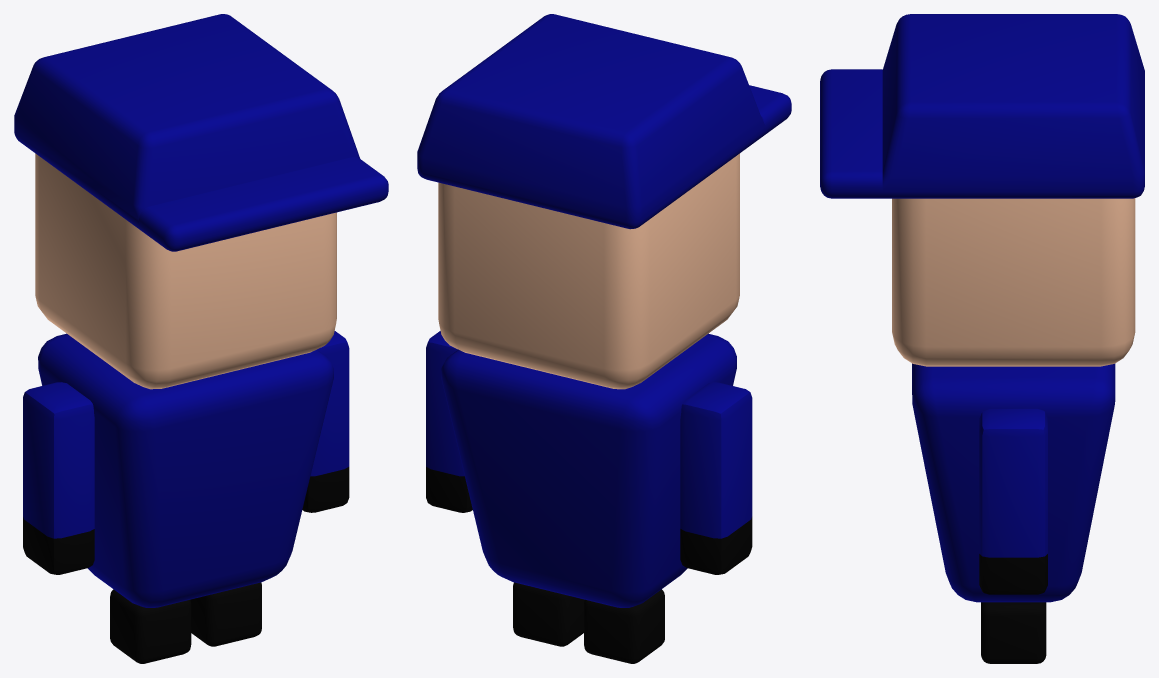
Rendered from Wachmann.fbx.
3 views of the same model, side by side, from view 1: azimuth 30°, elevation 25°; view 2: azimuth 150°, elevation 25°; view 3: azimuth 270°, elevation 25° (orthographic).
Visible parts, largest first — view 1: Cap.001, Body.002, Head.002, Arm right, Arm left, Leg right, Leg left; view 2: Cap.001, Body.002, Head.002, Arm right, Arm left, Leg right, Leg left; view 3: Cap.001, Head.002, Body.002, Arm left, Leg left.
Boxes of the visible parts, x1,y1,x2,y2 form: Cap.001: (14,14,388,251); Body.002: (38,333,333,607); Head.002: (35,153,336,389); Arm right: (23,382,94,574); Arm left: (302,331,349,512); Leg right: (110,589,191,663); Leg left: (190,582,261,646); Cap.001: (417,14,791,229); Body.002: (441,333,736,607); Head.002: (438,153,739,389); Arm right: (680,382,752,574); Arm left: (426,331,472,512); Leg right: (584,589,664,663); Leg left: (513,582,584,646); Cap.001: (820,14,1144,198); Head.002: (892,198,1135,366); Body.002: (912,363,1115,602); Arm left: (979,408,1047,594); Leg left: (981,602,1046,663).
Size of the model in its own units: 269 by 486 by 248.
